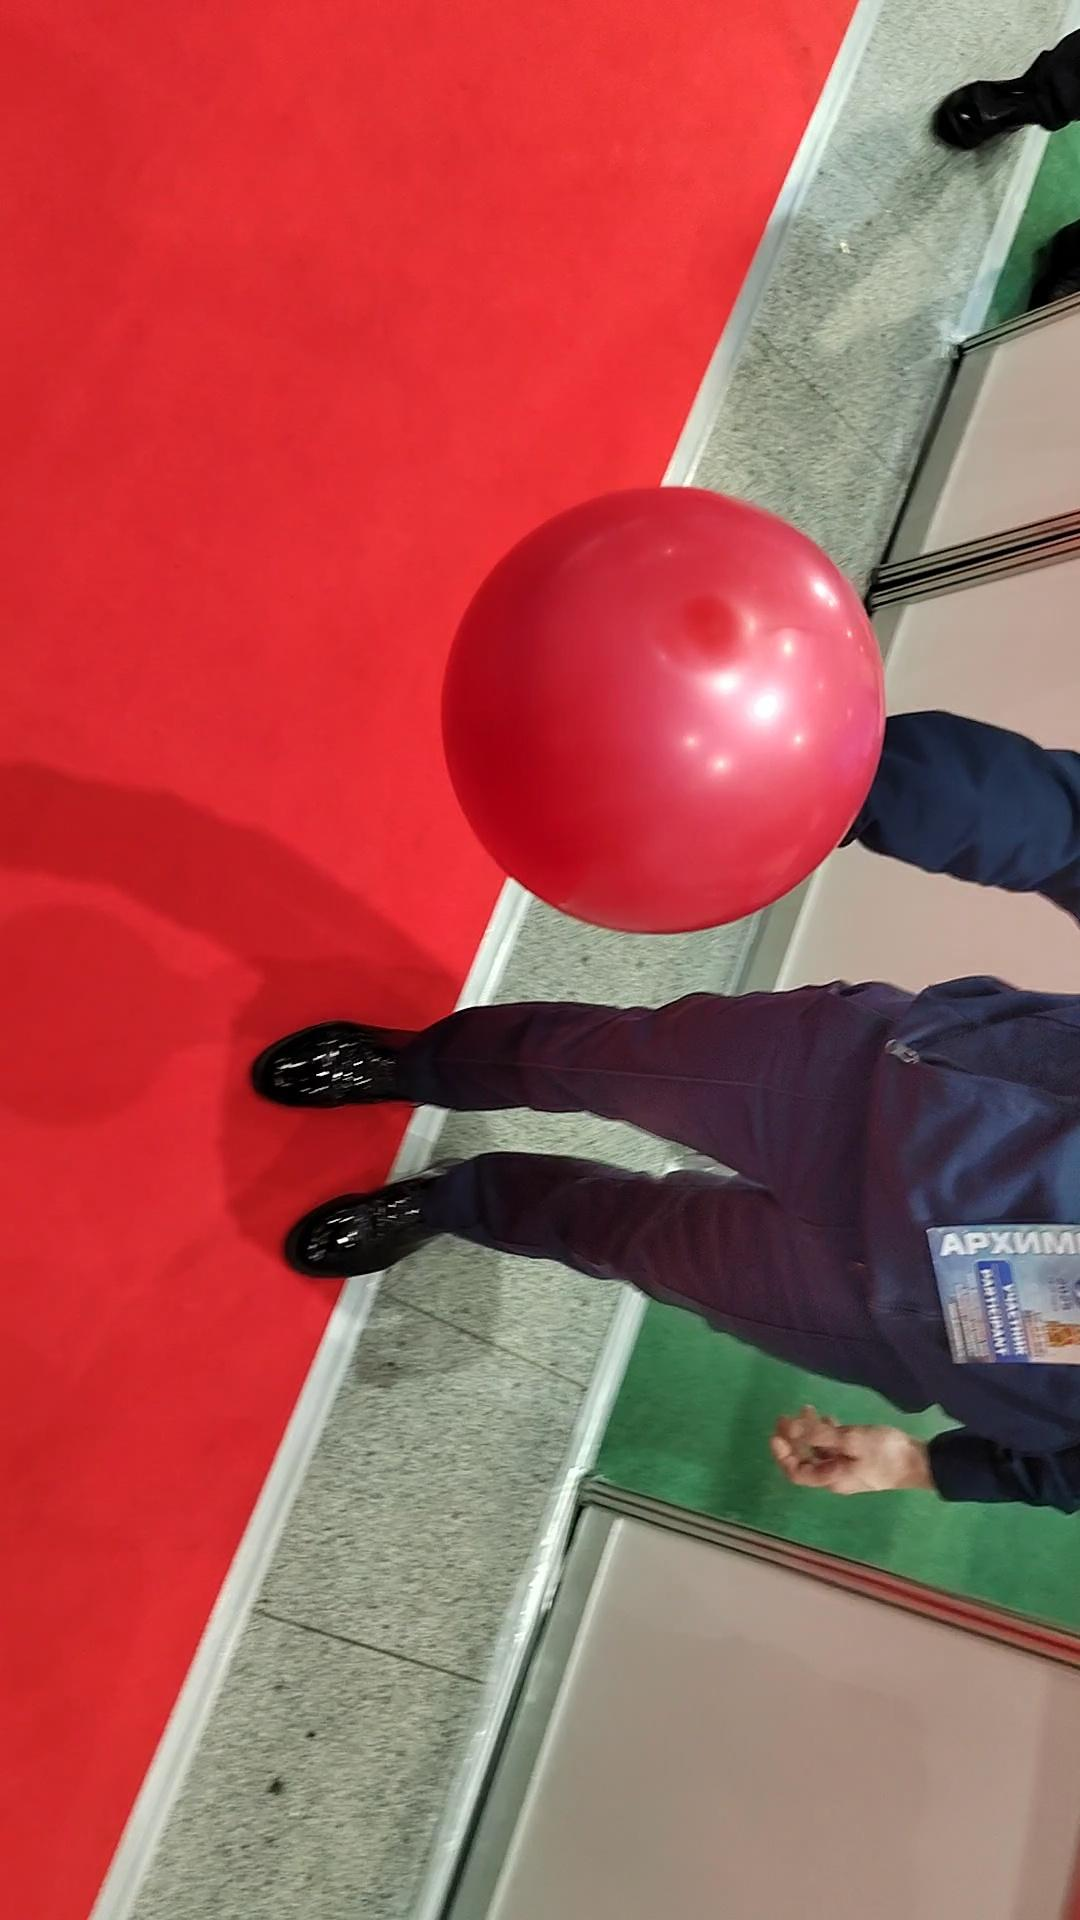red: (430, 465, 894, 947)
